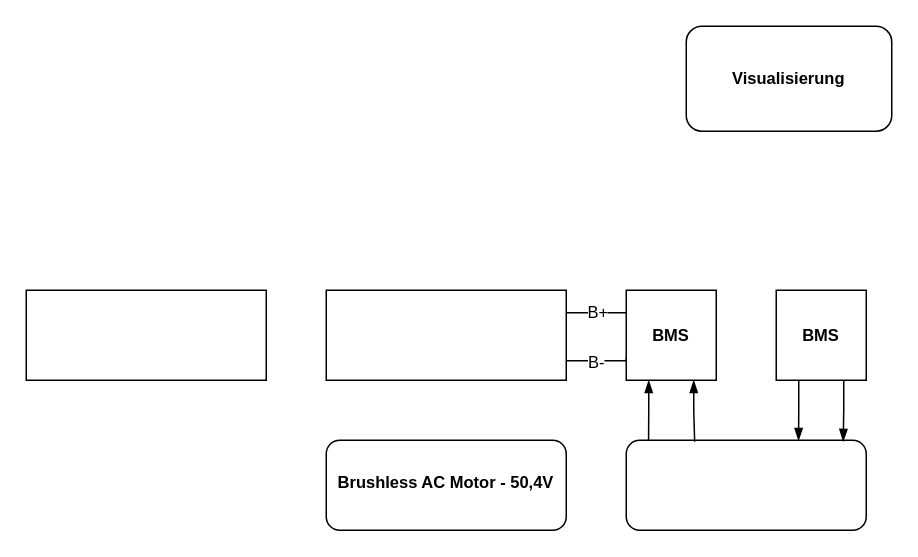
The diagram is 918 pixels wide and 557 high, and some of its shapes have lost their labels. The centre of each missing label's shape, as x and y in pixels:
Curtis Controller: the point at 445,334
Samsung 21700 14s40s: the point at 745,484
